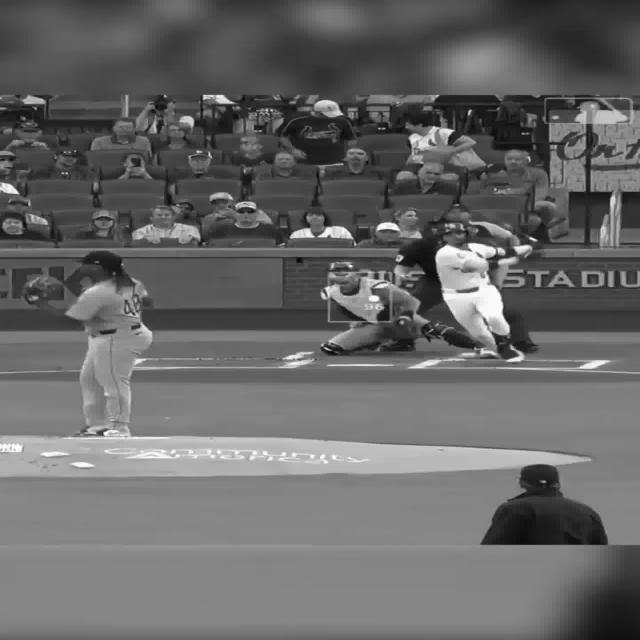base: (328, 362, 396, 370)
baseball_glove: (23, 276, 65, 305), (374, 319, 415, 342)
bat: (531, 231, 568, 249)
shoe: (72, 427, 114, 437), (83, 430, 133, 438), (498, 349, 526, 363), (474, 346, 500, 358)
